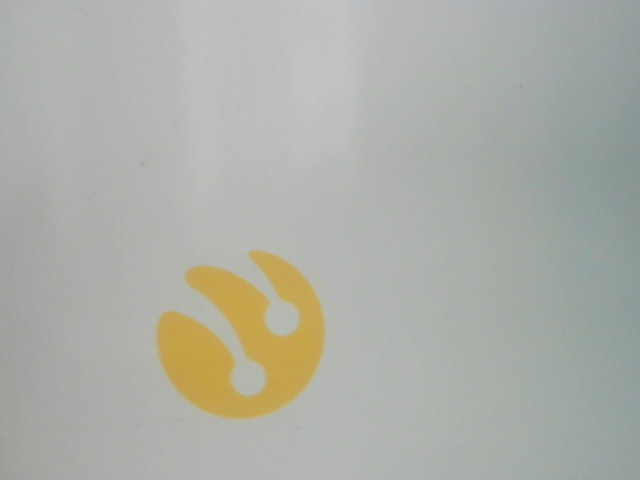AV_H3600Yellow: (133, 245, 341, 429)
